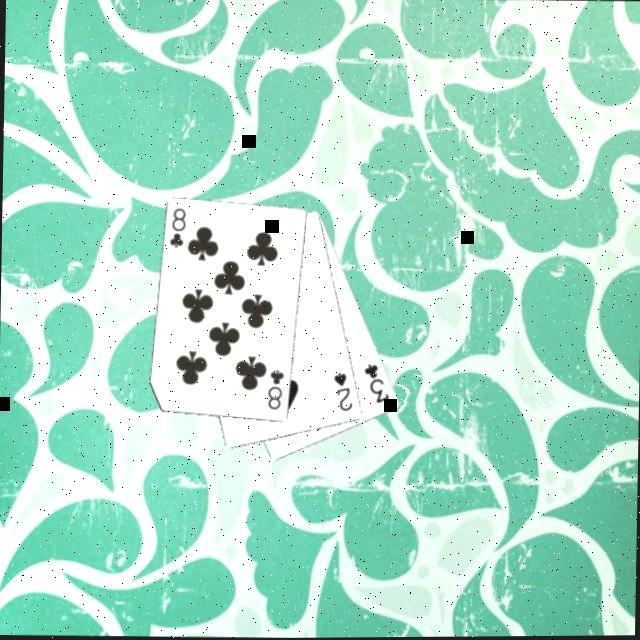2S: (328, 368, 355, 414)
3C: (359, 359, 392, 406)
8C: (263, 366, 286, 412), (165, 204, 188, 250)
